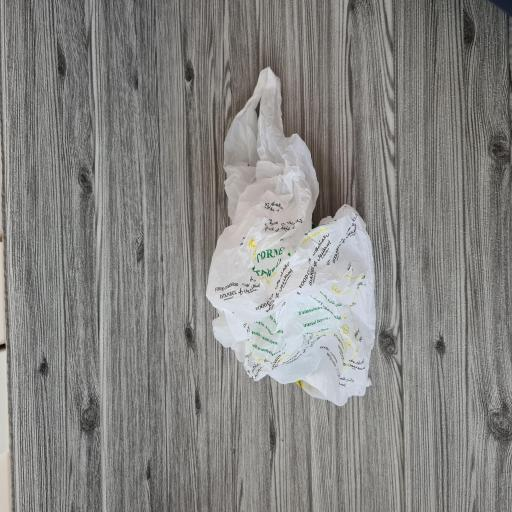plastic bag: (203, 69, 377, 408)
